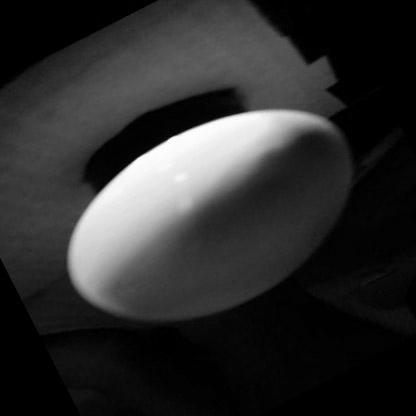telur: (57, 103, 359, 328)
